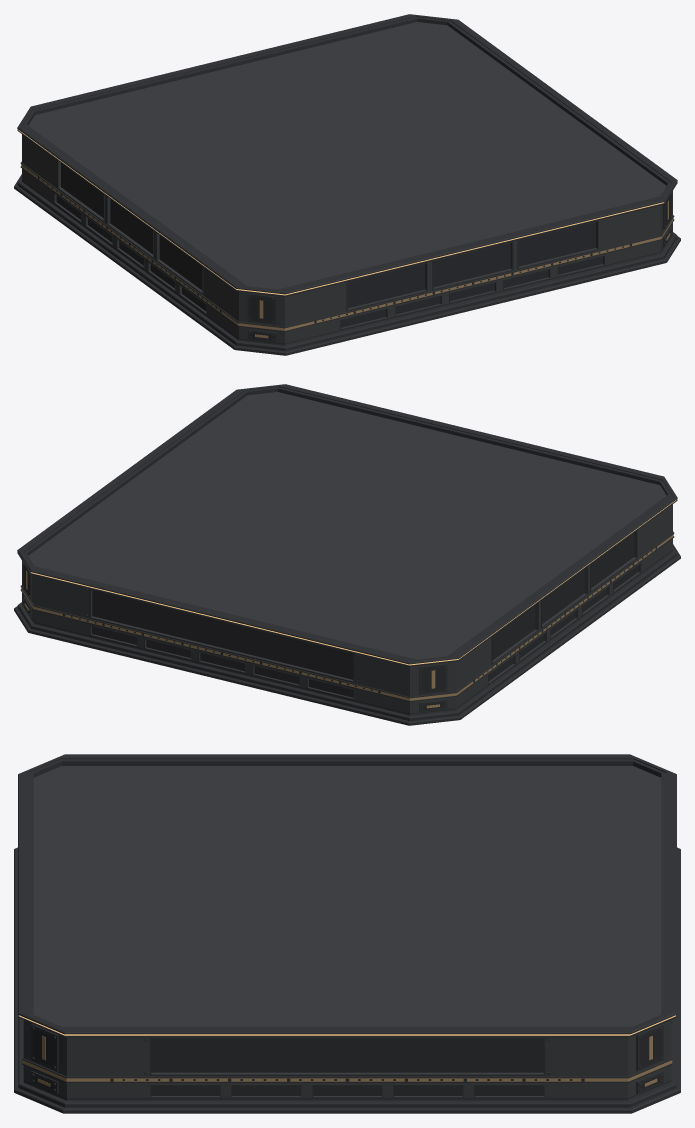
The model's file is plinth166.glb.
3 views of the same model, one above another, from view 1: azimuth 30°, elevation 25°; view 2: azimuth 150°, elevation 25°; view 3: azimuth 270°, elevation 25° (orthographic). The views are drawn at different scales.
Parts seen in each view (by area): view 1: b166-concrete, b166-steel, b166-inlay, b166-bronze, b166-led; view 2: b166-concrete, b166-steel, b166-inlay, b166-bronze, b166-led; view 3: b166-concrete, b166-steel, b166-inlay, b166-bronze, b166-led.
Part boxes in pixels (<box>): b166-concrete: <box>22,22,672,345</box>; b166-steel: <box>14,14,680,355</box>; b166-inlay: <box>22,177,672,344</box>; b166-bronze: <box>21,164,673,338</box>; b166-led: <box>18,130,663,295</box>; b166-concrete: <box>22,392,672,715</box>; b166-steel: <box>14,384,680,725</box>; b166-inlay: <box>22,547,672,714</box>; b166-bronze: <box>21,534,673,708</box>; b166-led: <box>31,500,676,665</box>; b166-concrete: <box>23,766,671,1100</box>; b166-steel: <box>14,754,680,1113</box>; b166-inlay: <box>23,1028,671,1099</box>; b166-bronze: <box>22,1036,672,1086</box>; b166-led: <box>19,1015,675,1035</box>.
Bounding box in the file's own units: 68 × 9 × 68.
